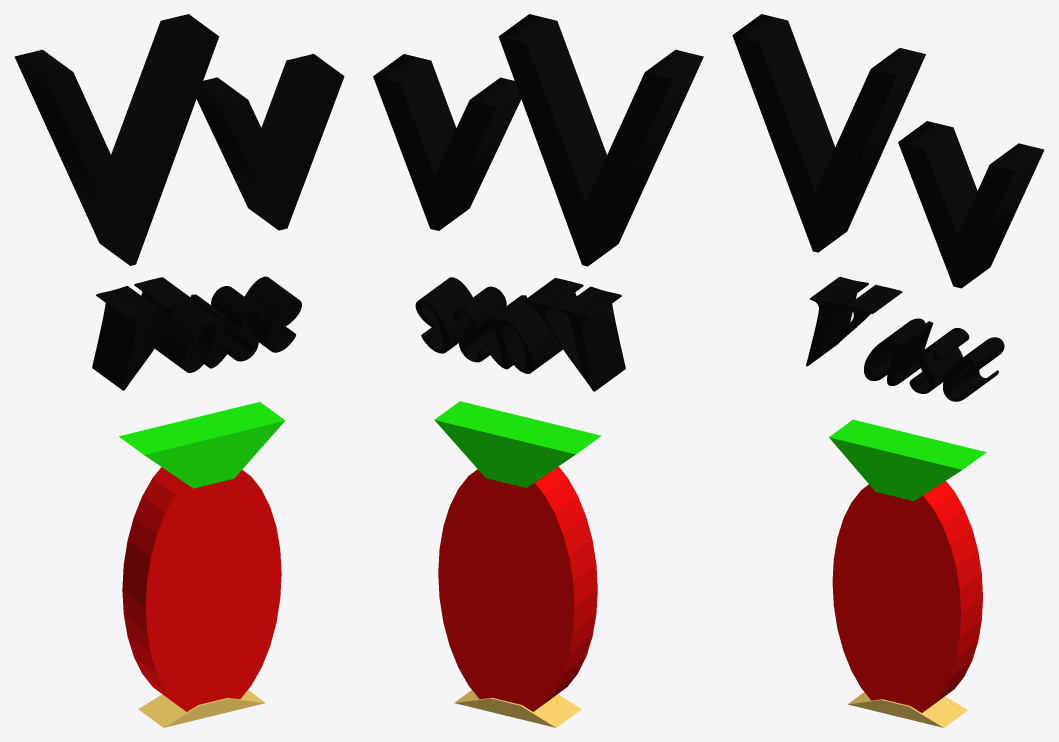
The model's file is Letter_V.glb.
3 renders of one model, left to right at view 1: azimuth 30°, elevation 25°; view 2: azimuth 150°, elevation 25°; view 3: azimuth 330°, elevation 25°, orthographic. The views are drawn at different scales.
Visible parts, largest first — view 1: Text, Cylinder, Text.001, Cube.001, Cube.002; view 2: Text, Cylinder, Text.001, Cube.001, Cube.002; view 3: Text, Cylinder, Text.001, Cube.001, Cube.002.
Boxes of the visible parts, bbox=[...] form: Text: bbox=[14, 14, 344, 265]; Cylinder: bbox=[122, 467, 281, 711]; Text.001: bbox=[92, 276, 301, 390]; Cube.001: bbox=[119, 402, 285, 488]; Cube.002: bbox=[138, 690, 265, 727]; Text: bbox=[373, 14, 703, 266]; Cylinder: bbox=[438, 466, 597, 715]; Text.001: bbox=[415, 277, 625, 391]; Cube.001: bbox=[434, 401, 601, 487]; Cube.002: bbox=[454, 690, 581, 727]; Text: bbox=[732, 14, 1044, 288]; Cylinder: bbox=[832, 481, 982, 716]; Text.001: bbox=[806, 277, 1004, 401]; Cube.001: bbox=[829, 419, 986, 500]; Cube.002: bbox=[847, 692, 967, 727].
Bounding box in the file's own units: 0.6751 × 1.47 × 0.1204.
